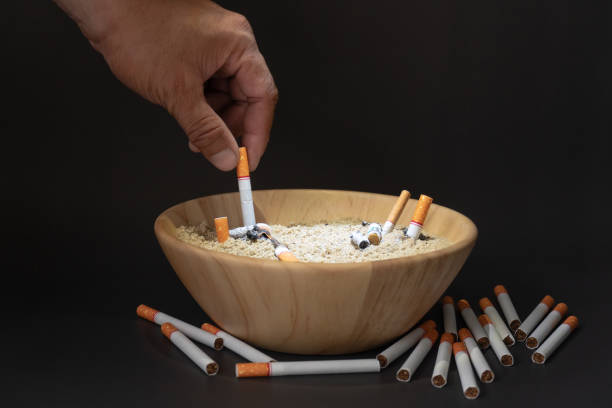cigarette: (138, 284, 224, 351), (162, 321, 220, 377), (200, 321, 279, 362), (235, 357, 380, 377), (376, 320, 436, 368), (531, 315, 579, 365), (395, 326, 437, 383), (523, 301, 567, 351), (478, 313, 515, 367), (459, 329, 495, 384), (477, 295, 514, 347), (234, 145, 257, 227), (516, 293, 555, 340), (456, 299, 491, 351), (453, 340, 481, 401), (380, 188, 411, 234), (430, 332, 454, 389), (493, 283, 521, 331), (405, 195, 432, 239), (443, 293, 457, 340), (273, 244, 302, 261), (213, 214, 229, 241), (350, 232, 367, 250), (368, 223, 381, 246)
